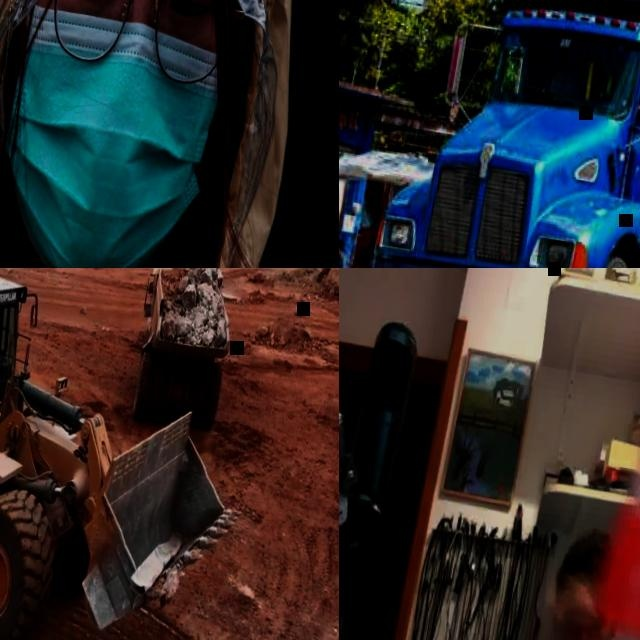Mask: (0, 3, 231, 268)
NO-Hardhat: (555, 524, 613, 583)
Person: (0, 0, 339, 268), (451, 516, 640, 640)
Safety Cone: (571, 347, 640, 640)
machinery: (0, 268, 256, 640), (350, 0, 640, 268), (124, 268, 249, 442)
